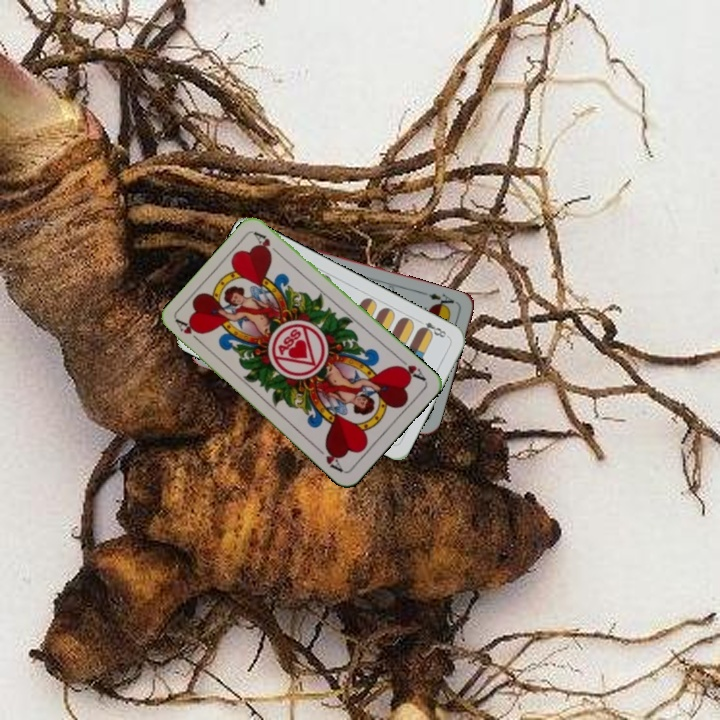E8: (414, 315, 451, 340)
EA: (425, 289, 456, 312)
HA: (172, 316, 206, 348), (393, 353, 428, 383)
